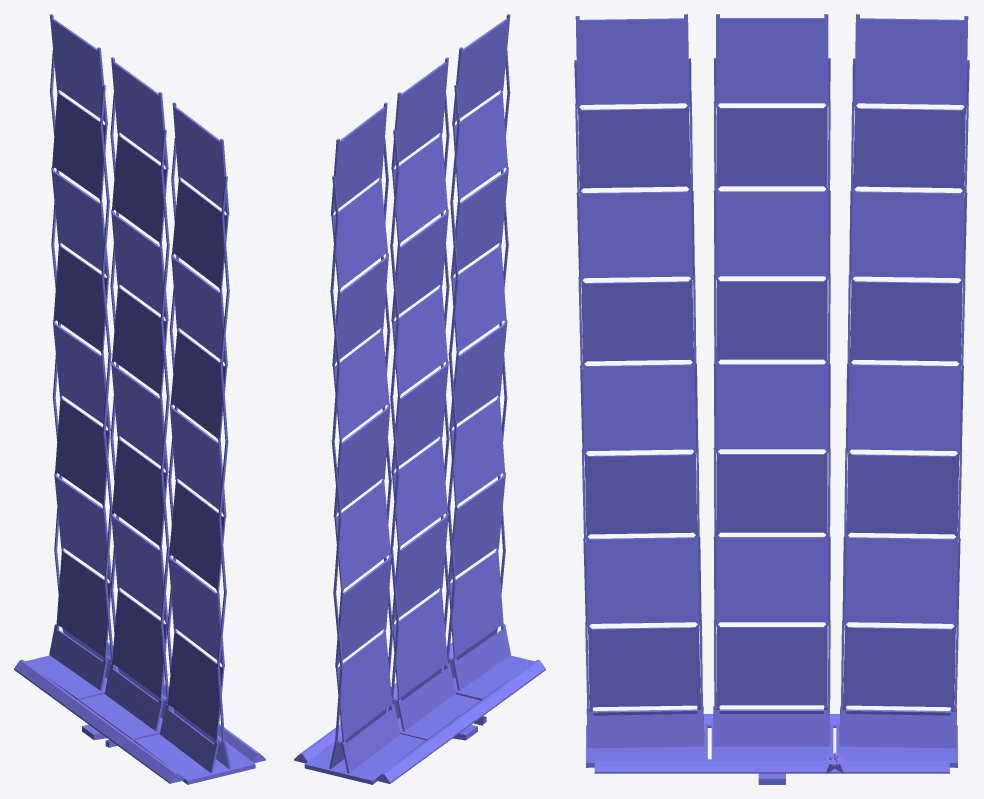
The model's file is solar panel segment R1.fbx.
3 renders of one model, left to right at view 1: azimuth 30°, elevation 25°; view 2: azimuth 150°, elevation 25°; view 3: azimuth 270°, elevation 25°, orthographic. The views are drawn at different scales.
Visible parts, largest first — view 1: solar panel segment R1; view 2: solar panel segment R1; view 3: solar panel segment R1.
Part boxes in pixels (x1=…): solar panel segment R1: x1=14, y1=14, x2=265, y2=784; solar panel segment R1: x1=294, y1=14, x2=545, y2=784; solar panel segment R1: x1=574, y1=14, x2=969, y2=784.
Size of the model in its own units: 230 by 1352 by 651.
